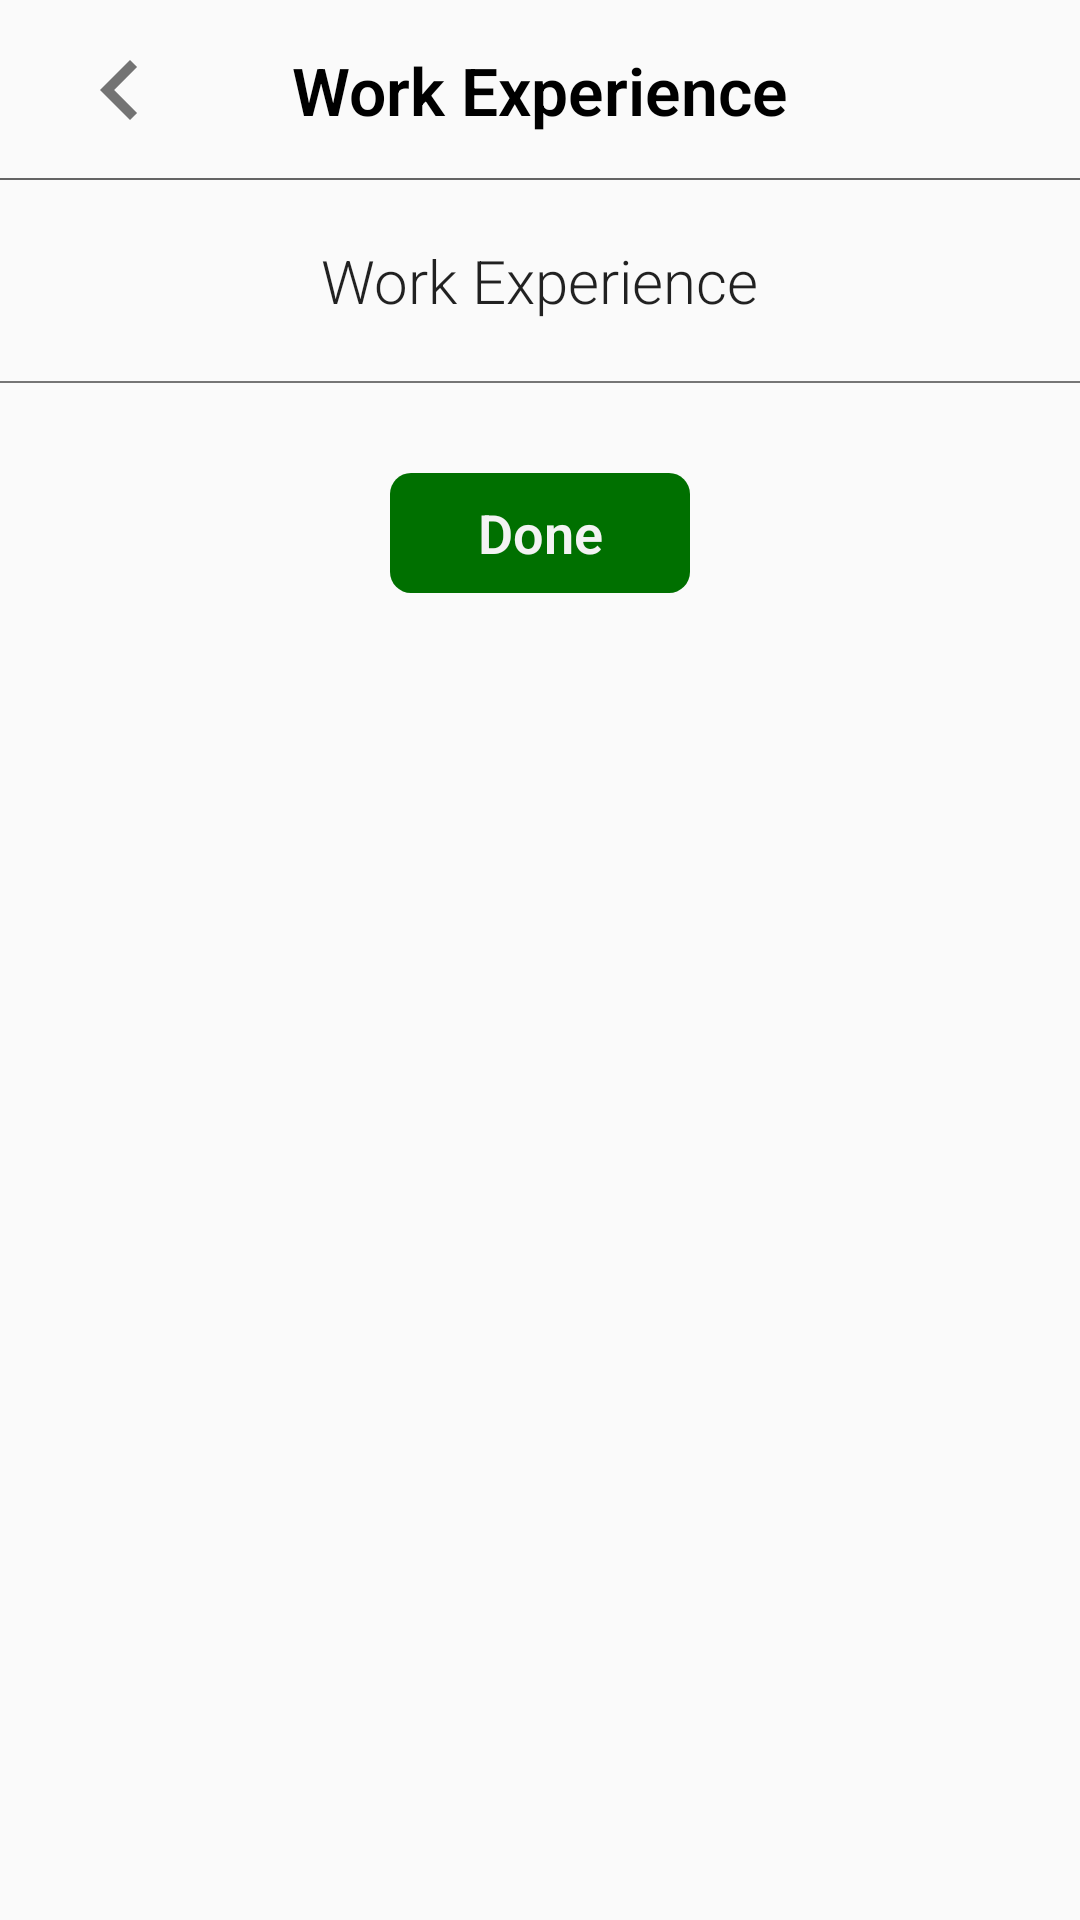

Named icons in this screenshot (1080x1920) and their bounding boxes, (x1, y1, x2, y2):
chevron left: (100, 60, 137, 120)
